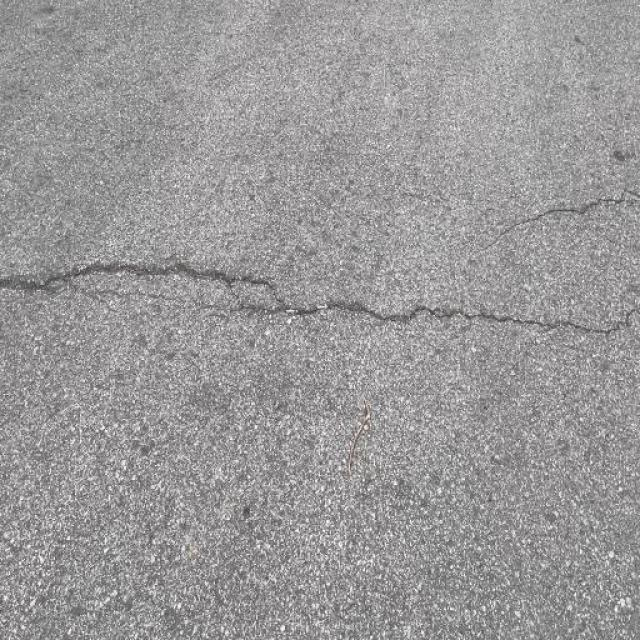Retak-Melintang: (89, 283, 615, 336), (2, 261, 289, 306), (471, 188, 634, 253)
